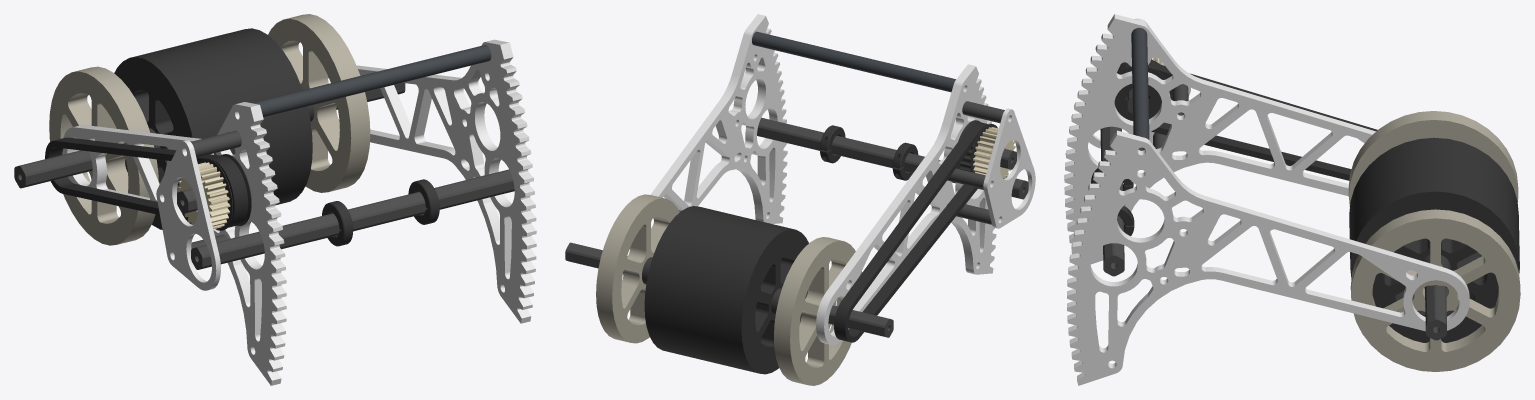
3 renders of one model, left to right at view 1: azimuth 30°, elevation 25°; view 2: azimuth 150°, elevation 25°; view 3: azimuth 270°, elevation 25°, orthographic. The views are drawn at different scales.
Visible parts, largest first — view 1: Hood Gear Plate (×2), Steel Flywheel (×4), 4" Solid Urethane Wheel (45A, 1.5" Wide, 1/2" Hex Bore) (×2), 8.25 in. Rounded Hex Shaft, Hood Roller Plate, 95T 5M 9mm Wide Belt, 6.25 in. Round Spacer, 9.875 in. Rounded Hex Shaft, 1/2" Hex Clamping Shaft Collar (×2), 28t Aluminum Spur Gear (20 DP, 1/2" Hex Bore), 1.25 in. Round Spacer, 24t Custom HTD 5mm Pulley (0.375" Wide, *0.505" Hex Bore); view 2: Hood Gear Plate (×2), 4" Solid Urethane Wheel (45A, 1.5" Wide, 1/2" Hex Bore) (×2), Steel Flywheel (×4), 95T 5M 9mm Wide Belt, Hood Roller Plate, 8.25 in. Rounded Hex Shaft, 6.25 in. Round Spacer, 9.875 in. Rounded Hex Shaft, 1.25 in. Round Spacer (×3), 1/2" Hex Clamping Shaft Collar (×2), 28t Aluminum Spur Gear (20 DP, 1/2" Hex Bore), 24t Custom HTD 5mm Pulley (0.375" Wide, *0.505" Hex Bore); view 3: Hood Gear Plate (×2), Steel Flywheel (×4), 4" Solid Urethane Wheel (45A, 1.5" Wide, 1/2" Hex Bore) (×2), 95T 5M 9mm Wide Belt, 6.25 in. Round Spacer, 9.875 in. Rounded Hex Shaft, 8.25 in. Rounded Hex Shaft, 24t Custom HTD 5mm Pulley (0.375" Wide, *0.505" Hex Bore).
Part boxes in pixels (bbox=[...]): Hood Gear Plate (×2): bbox=[62, 39, 536, 385]; Steel Flywheel (×4): bbox=[49, 14, 370, 245]; 4" Solid Urethane Wheel (45A, 1.5" Wide, 1/2" Hex Bore) (×2): bbox=[114, 28, 312, 229]; 8.25 in. Rounded Hex Shaft: bbox=[191, 169, 514, 269]; Hood Roller Plate: bbox=[156, 140, 220, 290]; 95T 5M 9mm Wide Belt: bbox=[45, 137, 248, 227]; 6.25 in. Round Spacer: bbox=[251, 45, 491, 117]; 9.875 in. Rounded Hex Shaft: bbox=[14, 83, 405, 188]; 1/2" Hex Clamping Shaft Collar (×2): bbox=[322, 179, 439, 246]; 28t Aluminum Spur Gear (20 DP, 1/2" Hex Bore): bbox=[178, 162, 230, 229]; 1.25 in. Round Spacer: bbox=[191, 130, 241, 157]; 24t Custom HTD 5mm Pulley (0.375" Wide, *0.505" Hex Bore): bbox=[199, 154, 251, 230]; Hood Gear Plate (×2): bbox=[630, 14, 996, 345]; 4" Solid Urethane Wheel (45A, 1.5" Wide, 1/2" Hex Bore) (×2): bbox=[644, 206, 808, 374]; Steel Flywheel (×4): bbox=[596, 194, 862, 385]; 95T 5M 9mm Wide Belt: bbox=[834, 122, 988, 342]; Hood Roller Plate: bbox=[983, 108, 1035, 228]; 8.25 in. Rounded Hex Shaft: bbox=[757, 117, 1028, 199]; 6.25 in. Round Spacer: bbox=[752, 31, 955, 92]; 9.875 in. Rounded Hex Shaft: bbox=[565, 242, 893, 337]; 1.25 in. Round Spacer (×3): bbox=[947, 101, 1004, 224]; 1/2" Hex Clamping Shaft Collar (×2): bbox=[820, 125, 918, 180]; 28t Aluminum Spur Gear (20 DP, 1/2" Hex Bore): bbox=[973, 127, 1015, 178]; 24t Custom HTD 5mm Pulley (0.375" Wide, *0.505" Hex Bore): bbox=[956, 120, 997, 172]; Hood Gear Plate (×2): bbox=[1064, 14, 1469, 385]; Steel Flywheel (×4): bbox=[1348, 111, 1520, 371]; 4" Solid Urethane Wheel (45A, 1.5" Wide, 1/2" Hex Bore) (×2): bbox=[1349, 137, 1519, 342]; 95T 5M 9mm Wide Belt: bbox=[1117, 61, 1377, 180]; 6.25 in. Round Spacer: bbox=[1131, 27, 1149, 150]; 9.875 in. Rounded Hex Shaft: bbox=[1425, 285, 1446, 340]; 8.25 in. Rounded Hex Shaft: bbox=[1100, 126, 1124, 276]; 24t Custom HTD 5mm Pulley (0.375" Wide, *0.505" Hex Bore): bbox=[1114, 59, 1173, 120].
Size of the model in its own units: 0.2509 by 0.1658 by 0.2732.
